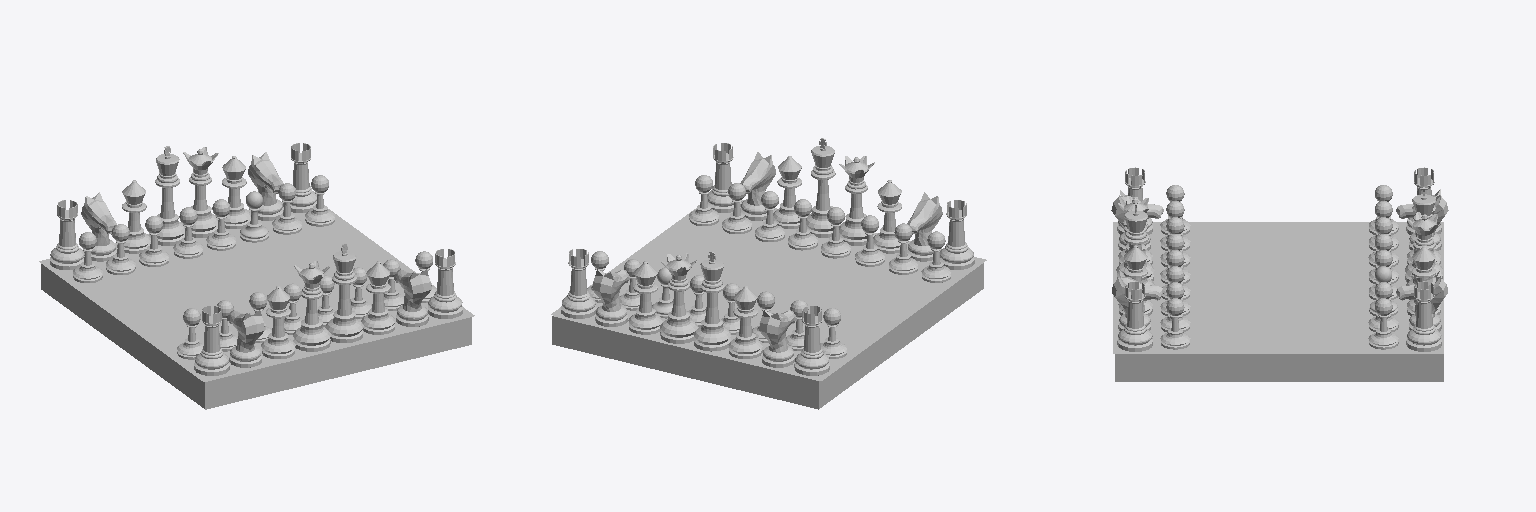
Rendered from chess_complete.obj.
3 renders of one model, left to right at view 1: azimuth 30°, elevation 25°; view 2: azimuth 150°, elevation 25°; view 3: azimuth 270°, elevation 25°, orthographic.
Parts seen in each view (by area): view 1: Plane01, Box01, elp, Sphere40, Sphere64, Sphere41, Sphere65, Line08, Line07, elep, elppn, Sphere45 (+19 smaller); view 2: Plane01, Box01, elp, Sphere41, Sphere65, Sphere64, Sphere40, Line09, Line10, Sphere44, elppn, Sphere43 (+19 smaller); view 3: Plane01, Box01, elp, elep, Line09, Line08, Sphere47, Sphere16, Sphere40, Sphere46, Sphere43, Sphere65 (+7 smaller).
Boxes of the visible parts, <box> form: Plane01: <box>39,202,474,381</box>; Box01: <box>41,264,471,409</box>; elp: <box>50,143,316,269</box>; Sphere40: <box>325,251,363,342</box>; Sphere64: <box>293,261,330,351</box>; Sphere41: <box>149,154,185,245</box>; Sphere65: <box>183,147,218,237</box>; Line08: <box>394,269,431,326</box>; Line07: <box>227,310,264,367</box>; elep: <box>428,249,462,318</box>; elppn: <box>194,306,229,375</box>; Sphere45: <box>261,286,295,358</box>; Plane01: <box>551,200,986,380</box>; Box01: <box>552,263,983,409</box>; elp: <box>561,249,829,375</box>; Sphere41: <box>693,259,730,351</box>; Sphere65: <box>660,253,697,343</box>; Sphere64: <box>839,156,874,245</box>; Sphere40: <box>806,146,835,237</box>; Line09: <box>592,269,629,326</box>; Line10: <box>759,310,796,367</box>; Sphere44: <box>728,286,762,358</box>; elppn: <box>940,200,974,269</box>; Sphere43: <box>628,261,662,334</box>; Plane01: <box>1113,222,1443,353</box>; Box01: <box>1115,354,1443,381</box>; elp: <box>1406,167,1441,351</box>; elep: <box>1117,281,1152,351</box>; Line09: <box>1396,270,1447,331</box>; Line08: <box>1112,270,1163,330</box>; Sphere47: <box>1368,298,1398,349</box>; Sphere16: <box>1160,298,1190,349</box>; Sphere40: <box>1124,211,1154,285</box>; Sphere46: <box>1118,245,1152,315</box>; Sphere43: <box>1407,245,1440,315</box>; Sphere65: <box>1406,212,1437,299</box>.
Bounding box in the file's own units: 62.36 × 26.72 × 67.